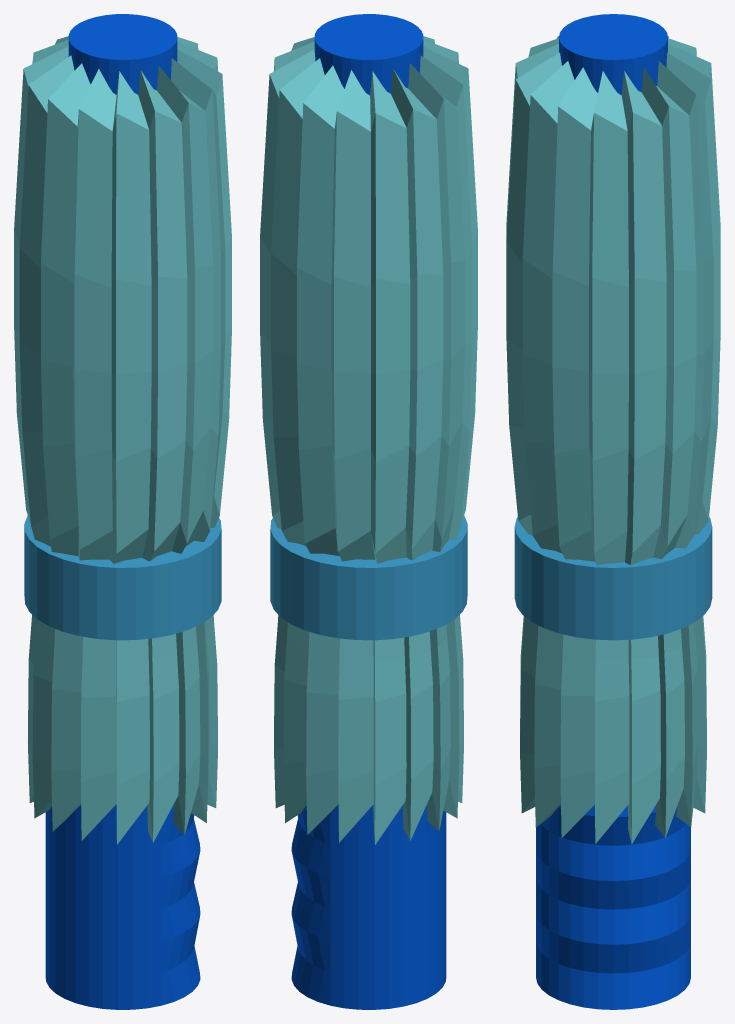
The model's file is umbrella_small.glb.
3 renders of one model, left to right at view 1: azimuth 30°, elevation 25°; view 2: azimuth 150°, elevation 25°; view 3: azimuth 270°, elevation 25°, orthographic.
Visible parts, largest first — view 1: Cylinder.001, Cylinder.003, Cylinder, Cylinder.002, Cylinder.004; view 2: Cylinder.001, Cylinder.003, Cylinder, Cylinder.002, Cylinder.004; view 3: Cylinder.001, Cylinder.003, Cylinder, Cylinder.002, Cylinder.004.
Boxes of the visible parts, box(x1,y1,x2,y2) form: Cylinder.001: box(14, 36, 231, 563); Cylinder.003: box(28, 615, 217, 844); Cylinder: box(45, 804, 200, 1009); Cylinder.002: box(24, 515, 221, 640); Cylinder.004: box(68, 14, 177, 94); Cylinder.001: box(260, 36, 477, 563); Cylinder.003: box(274, 615, 463, 844); Cylinder: box(291, 804, 446, 1009); Cylinder.002: box(270, 515, 467, 640); Cylinder.004: box(314, 14, 423, 95); Cylinder.001: box(506, 36, 720, 564); Cylinder.003: box(520, 616, 706, 843); Cylinder: box(536, 805, 690, 1009); Cylinder.002: box(514, 517, 712, 640); Cylinder.004: box(559, 14, 667, 95).
Bounding box in the file's own units: 0.7274 × 3.55 × 0.7274.
